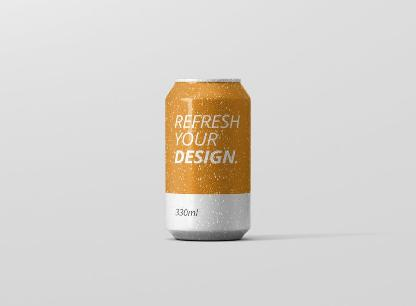Can: (166, 79, 250, 241)
